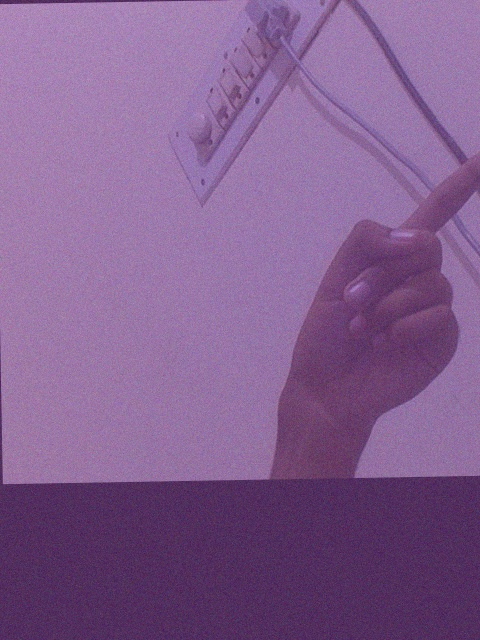hand: (282, 139, 480, 434)
